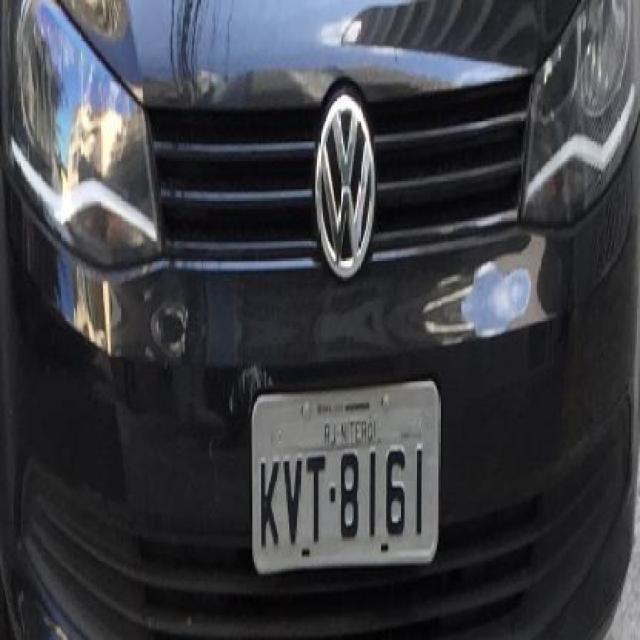old_plate: (245, 373, 448, 580)
